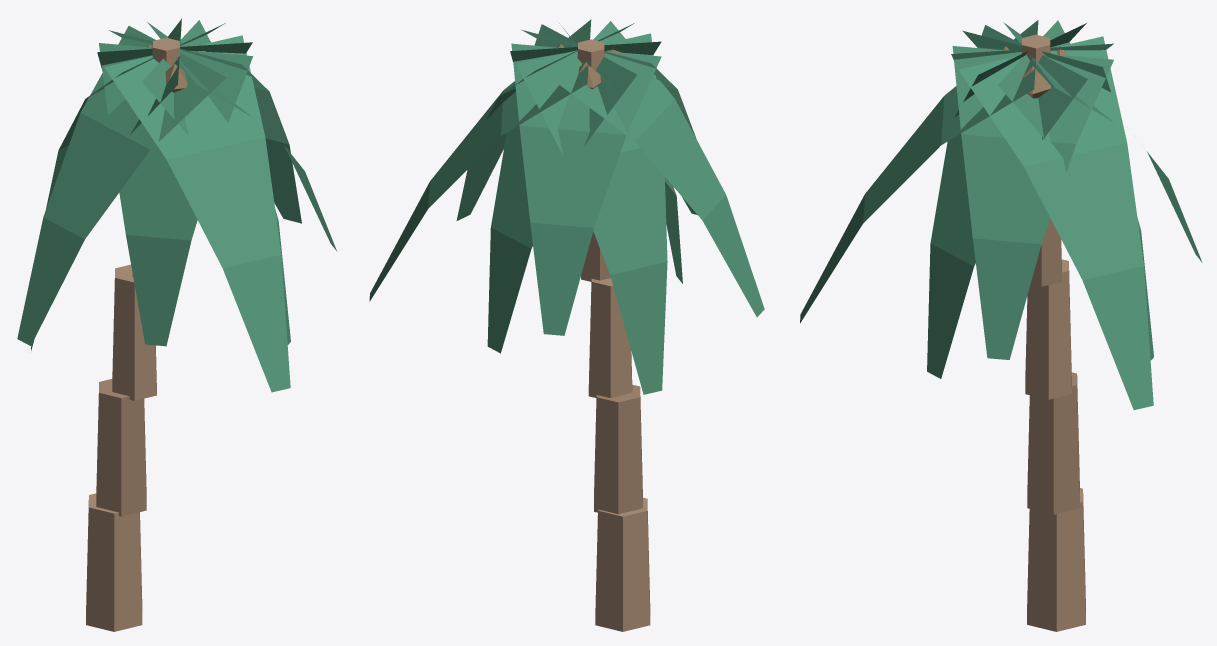
The model's file is palm_tree.glb.
3 renders of one model, left to right at view 1: azimuth 30°, elevation 25°; view 2: azimuth 150°, elevation 25°; view 3: azimuth 270°, elevation 25°, orthographic. The views are drawn at different scales.
Size of the model in its own units: 2.94 by 4.64 by 2.86.
